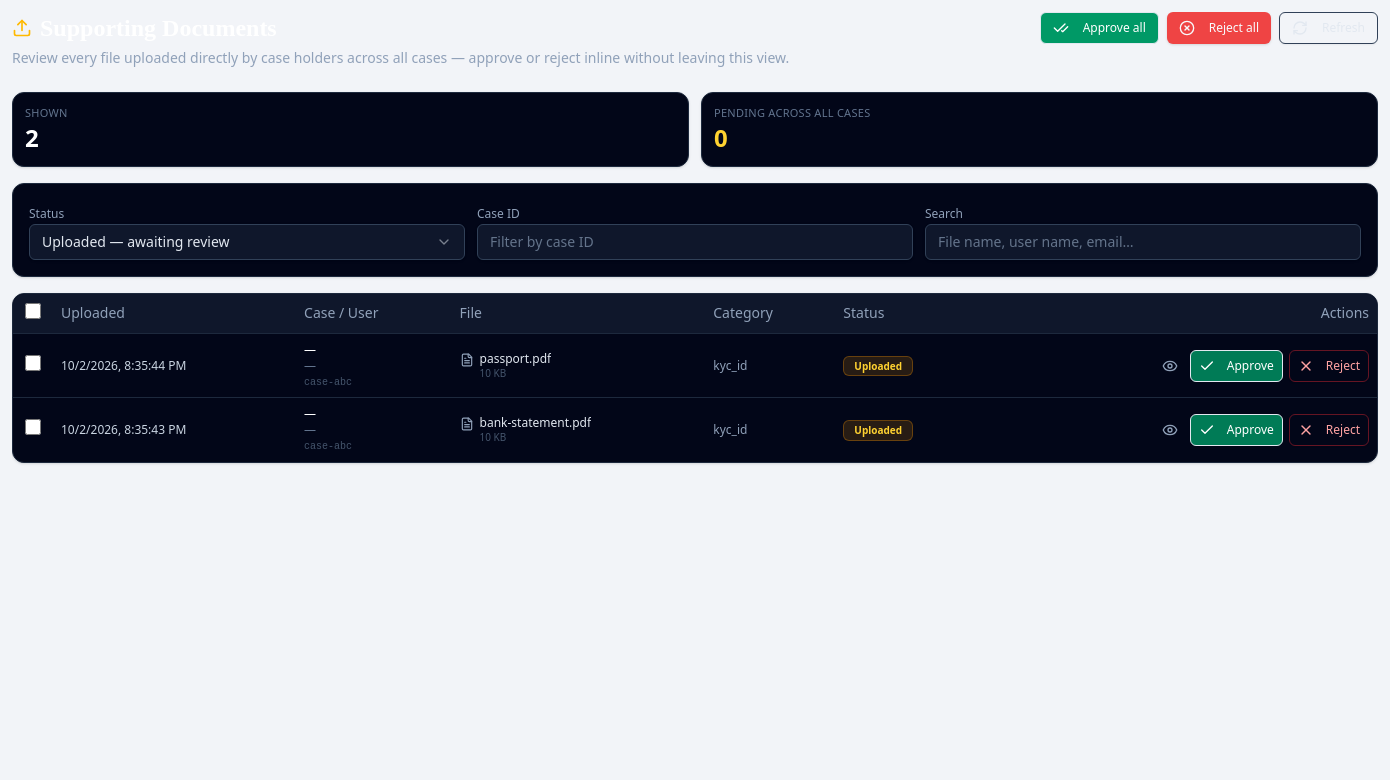
Scenario: SupportingDocumentsTab – selection persistence (Task #455) › selections that overlap with the new result set are kept; others are dropped
Expected: the row with test id "row-supporting-doc-10" is shown, [13, 334, 1377, 398]
Click the checkbox named "Select document passport.pdf" at (33, 363), box [25, 355, 41, 371]
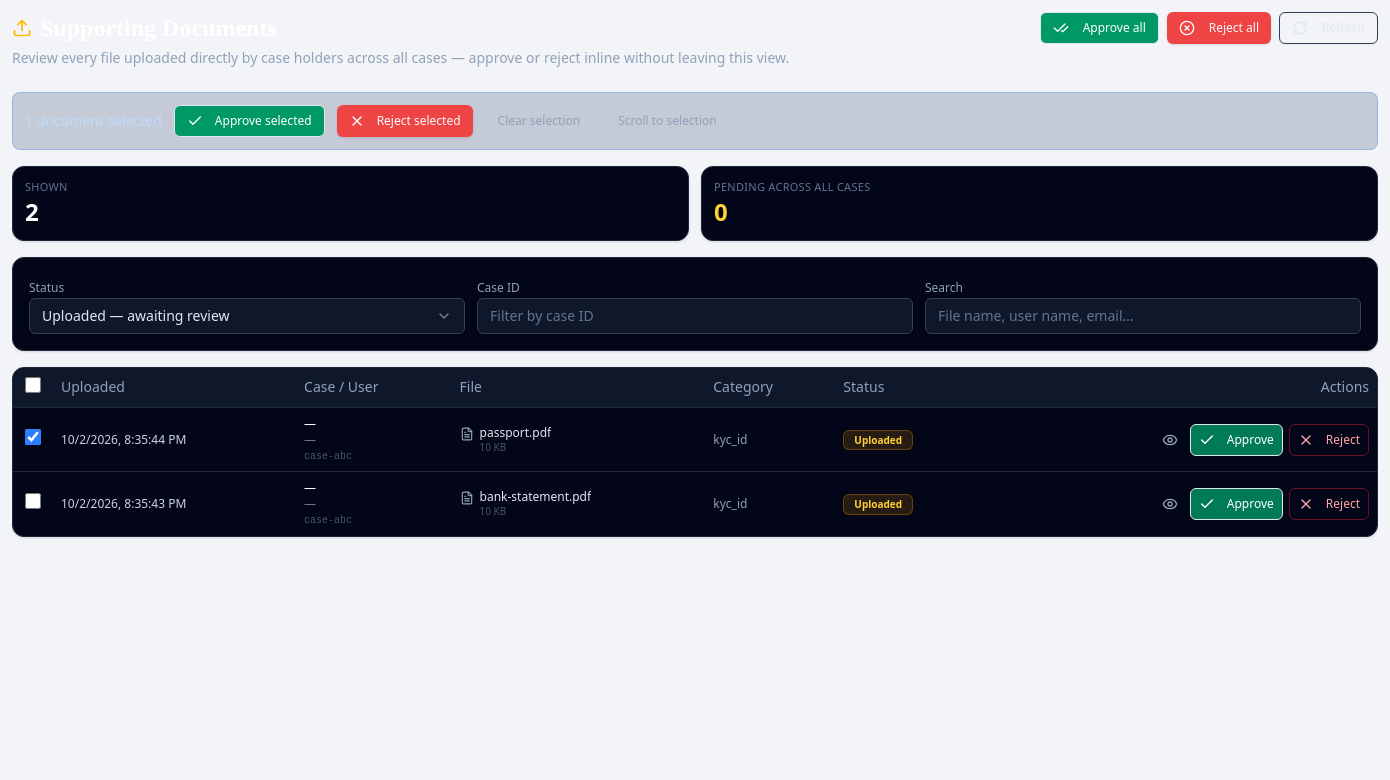
Click the checkbox named "Select document bank-statement.pdf" at (33, 502), box [25, 494, 41, 510]
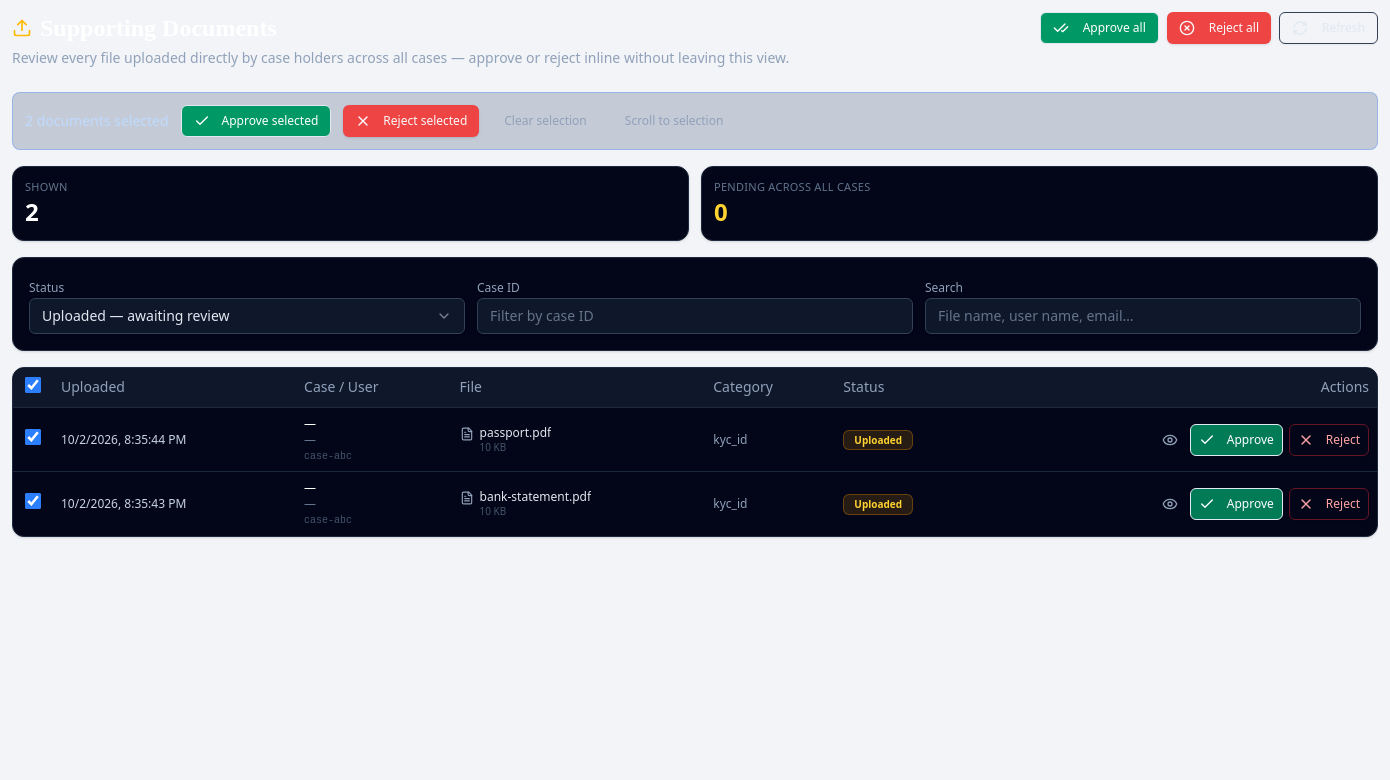
Now the element with test id "toolbar-selection-supporting-docs" shows "2 documents selected", box [12, 92, 1378, 150]
Type "case-abc" into the field with test id "filter-supporting-docs-case-id" at (695, 316), box [477, 298, 913, 334]
Wait 350 ms
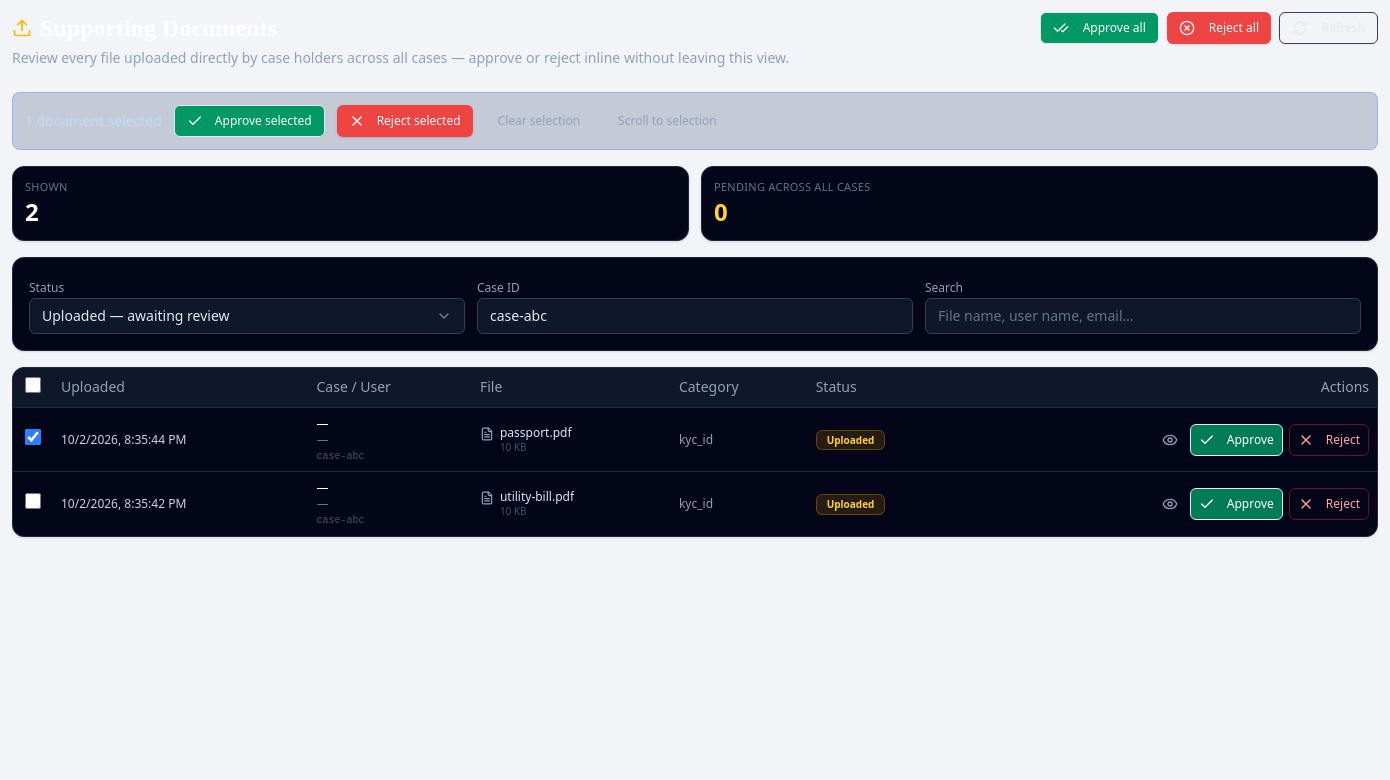
Now the row with test id "row-supporting-doc-12" is shown, box [13, 472, 1377, 536]
Now the element with test id "toolbar-selection-supporting-docs" shows "1 document selected", box [12, 92, 1378, 150]
